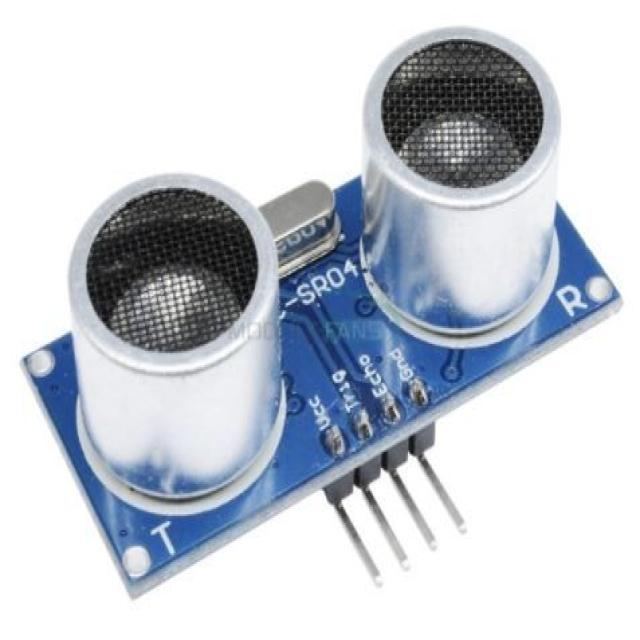Ultrasonic Sensor: (0, 0, 640, 633)
